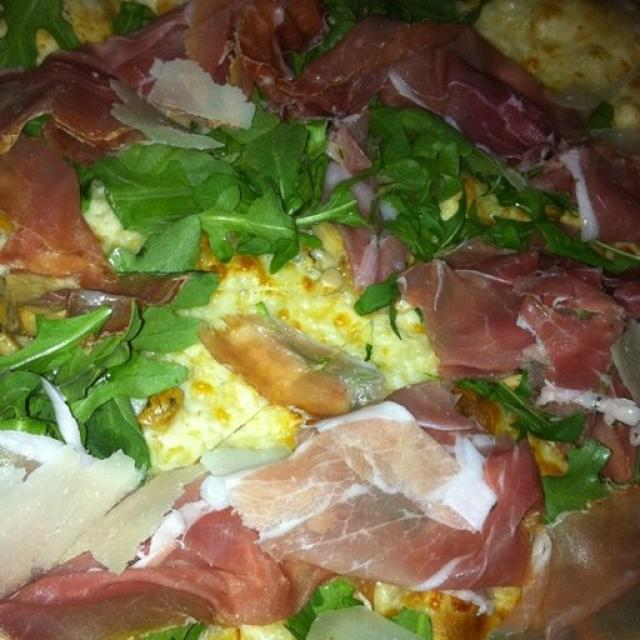Ham: (0, 418, 528, 626), (0, 45, 138, 306), (413, 259, 640, 409), (368, 38, 590, 152), (134, 0, 351, 108), (578, 125, 640, 238)
Pizza: (0, 0, 640, 640)
Rucola: (0, 272, 220, 463), (100, 120, 328, 273), (361, 114, 588, 260), (463, 382, 607, 509), (0, 0, 80, 64)
